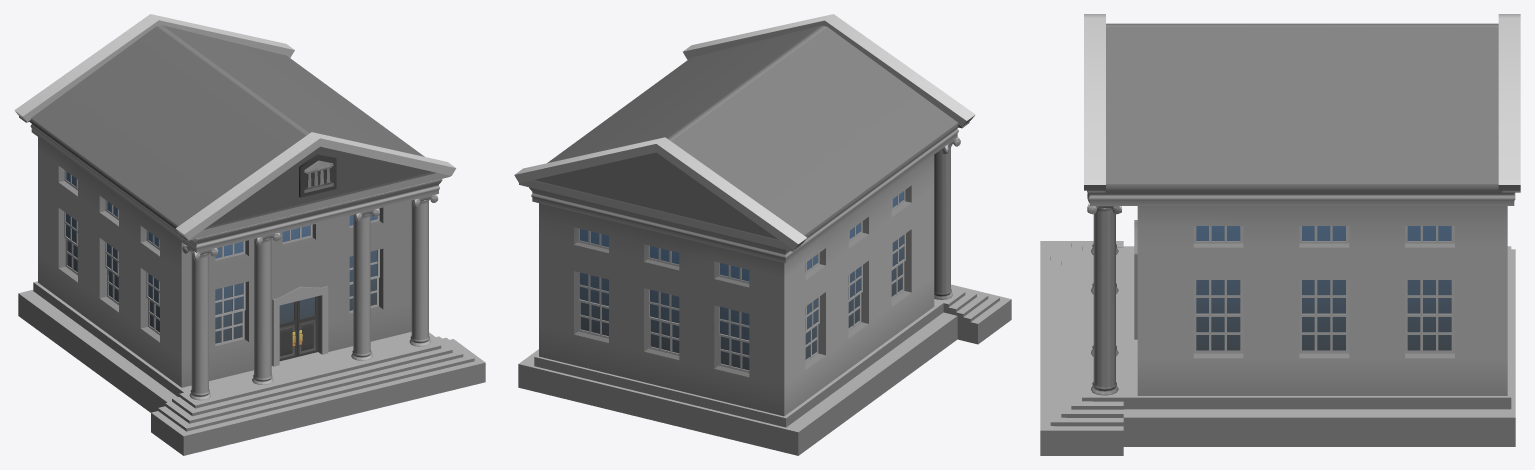
File: Business_Courthouse.glb
The picture shows the model from 3 angles, left to right: view 1: azimuth 30°, elevation 25°; view 2: azimuth 150°, elevation 25°; view 3: azimuth 270°, elevation 25°; orthographic projection. The views are drawn at different scales.
Visible parts, largest first — view 1: base.073, windowRefl.055; view 2: base.073, windowRefl.055; view 3: base.073, windowRefl.055.
Part boxes in pixels (<box>): base.073: <box>14,14,485,455</box>; windowRefl.055: <box>66,171,377,343</box>; base.073: <box>514,14,1011,455</box>; windowRefl.055: <box>579,191,903,370</box>; base.073: <box>1040,14,1520,455</box>; windowRefl.055: <box>1196,226,1451,350</box>.
Bounding box in the file's own units: 17.28 × 14.62 × 18.48.
